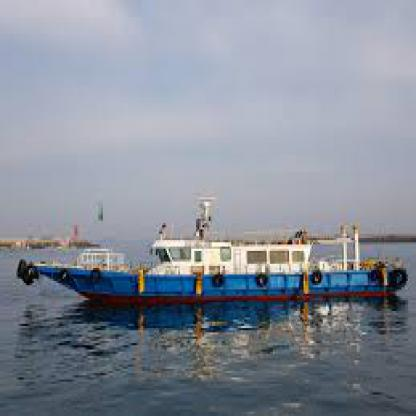fish-b: (14, 180, 414, 324)
